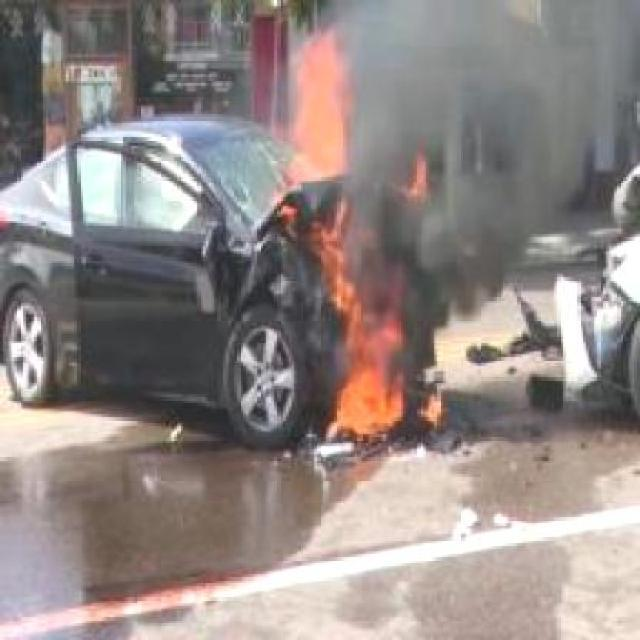Fire: (276, 26, 444, 440)
Smoke: (444, 0, 640, 318)
